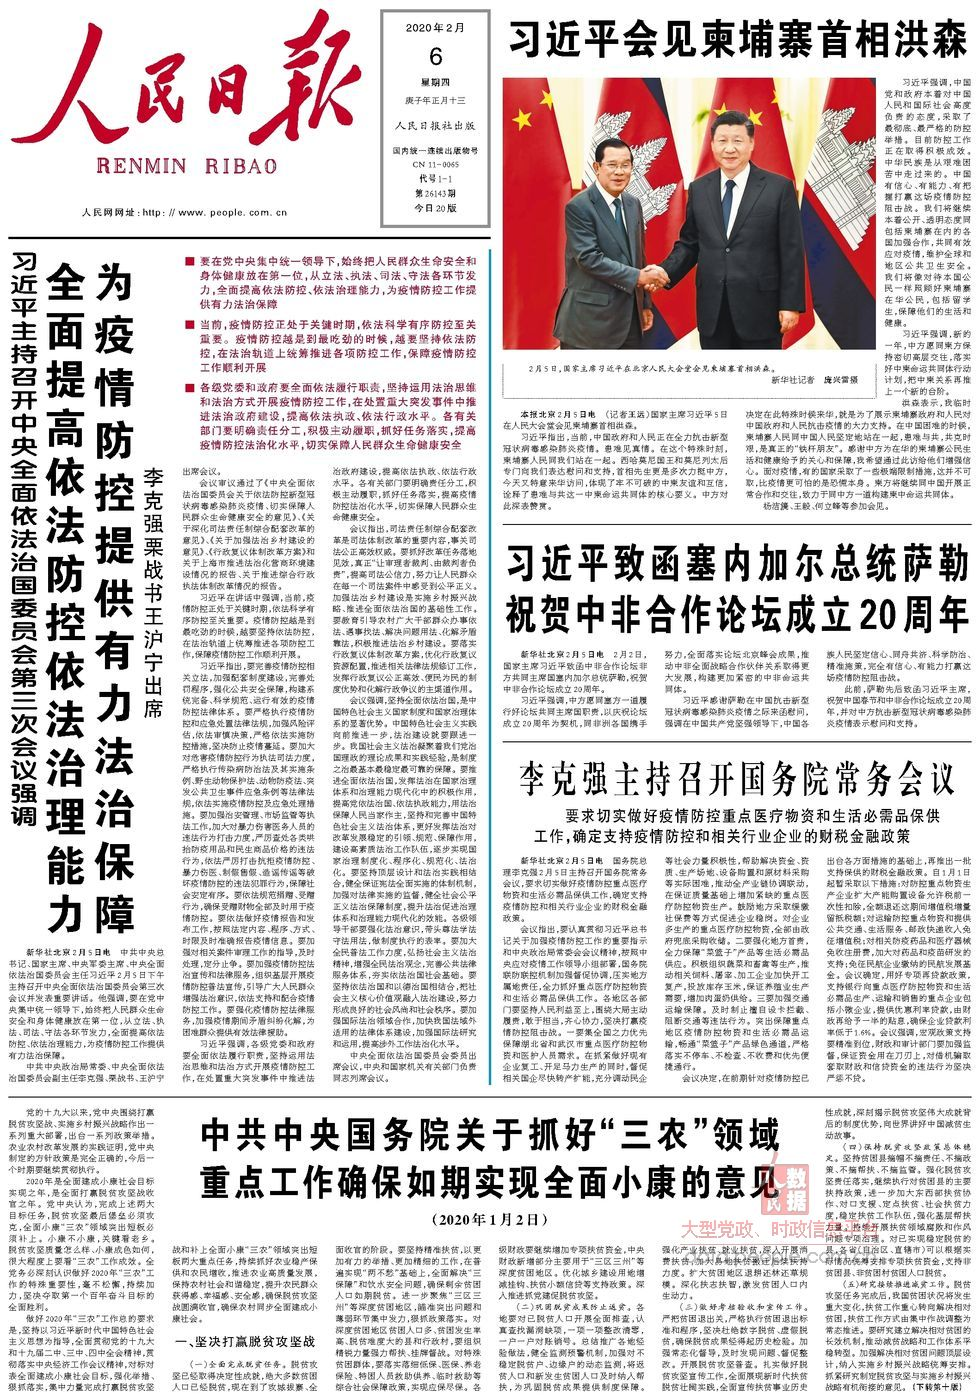pic: (499, 72, 880, 356)
